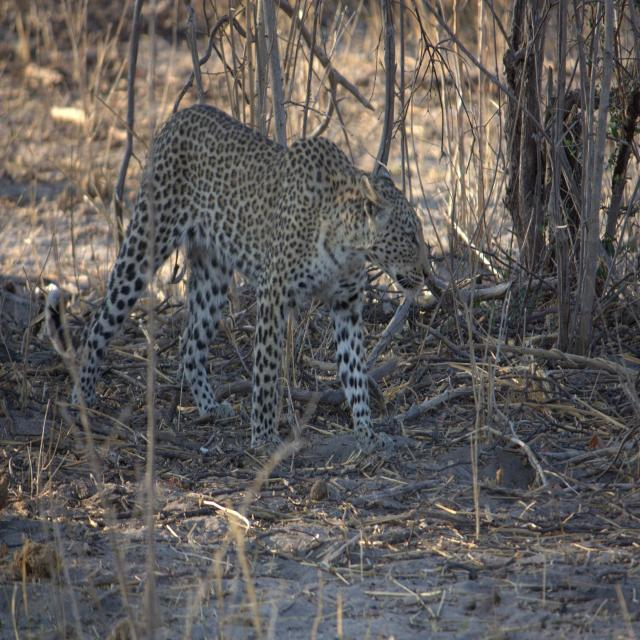Leopard: (36, 103, 437, 434)
